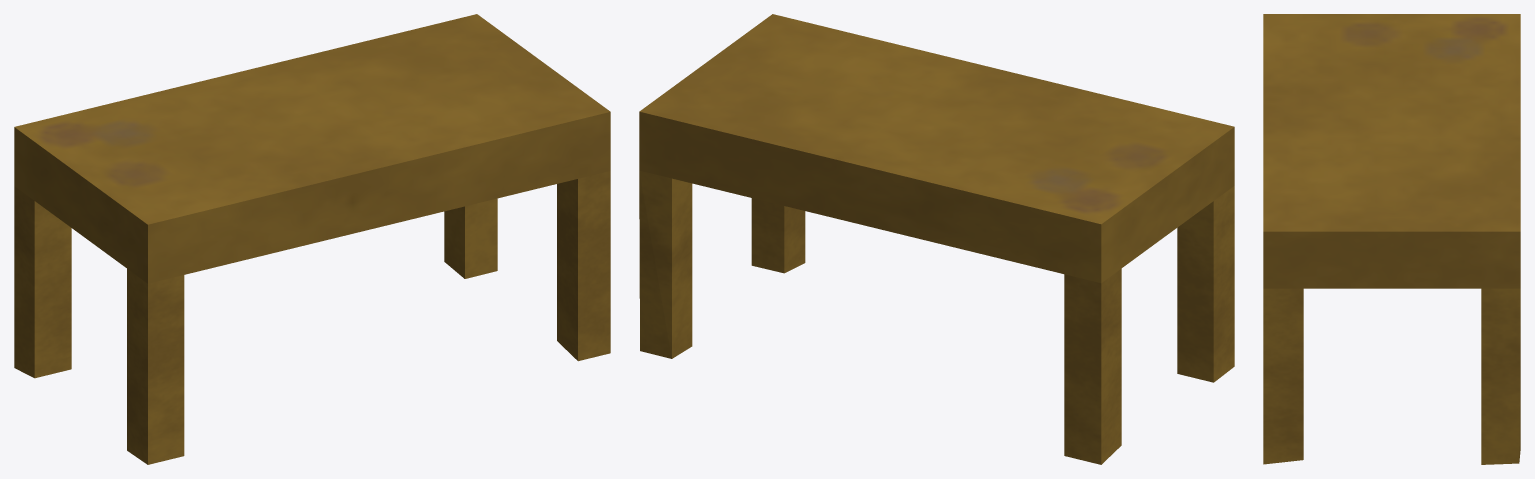
The model's file is table.dae.
3 renders of one model, left to right at view 1: azimuth 30°, elevation 25°; view 2: azimuth 150°, elevation 25°; view 3: azimuth 270°, elevation 25°, orthographic. The views are drawn at different scales.
Parts seen in each view (by area): view 1: Cube; view 2: Cube; view 3: Cube.
Boxes of the visible parts, left/top/right/bottom form: Cube: left=14, top=14, right=610, bottom=464; Cube: left=639, top=14, right=1234, bottom=464; Cube: left=1263, top=14, right=1520, bottom=464.
Bounding box in the file's own units: 2 × 1 × 1.
Materials: 1 (1 with a texture image).
